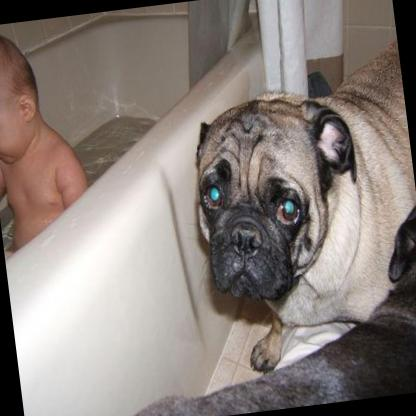pug: (175, 38, 416, 383), (179, 44, 416, 381), (92, 203, 416, 416)
